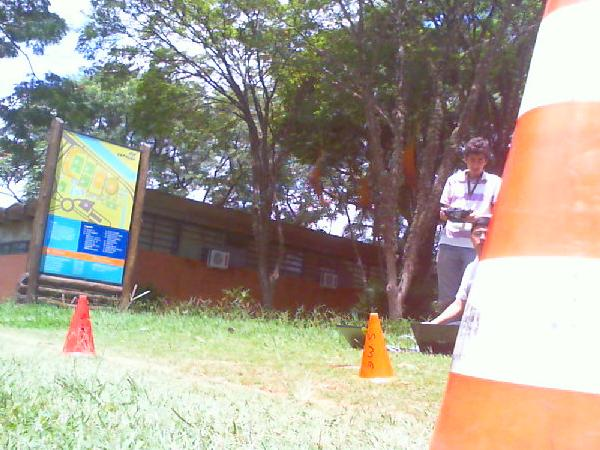0 cone: (427, 0, 600, 450), (359, 312, 399, 383), (63, 296, 95, 357)
